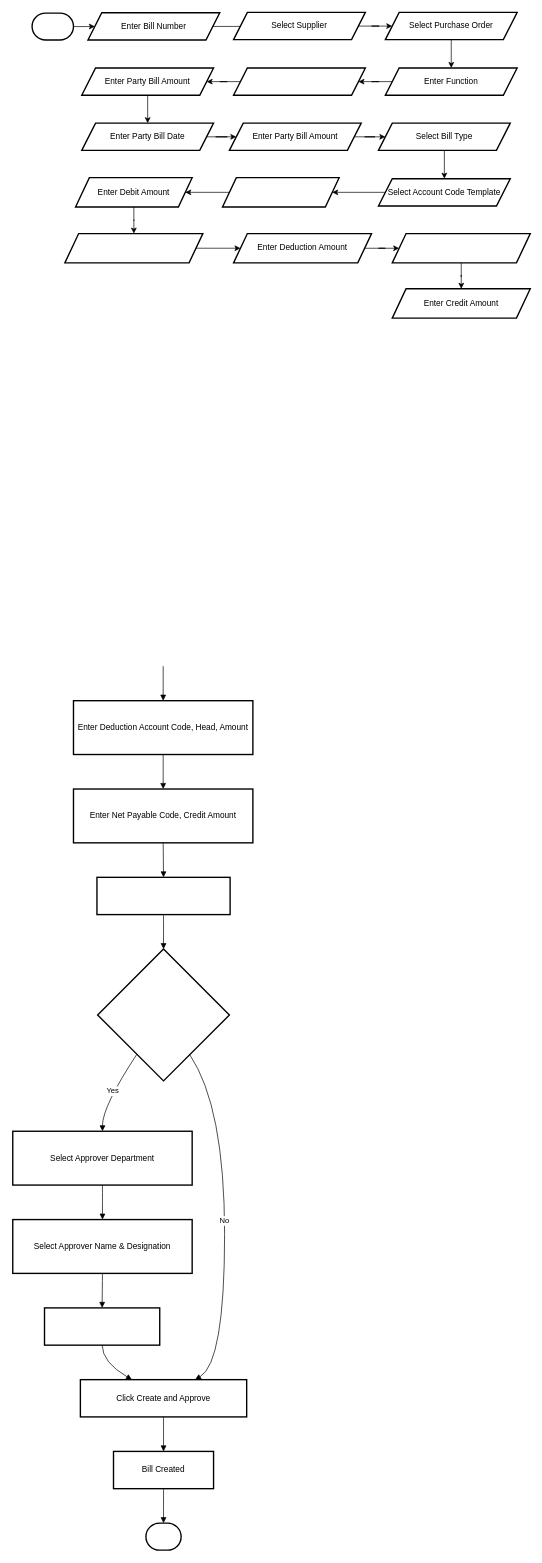
Image size: 542x1563. Some labels were removed from this diagram. The centre of each missing label's shape, as x and y in pixels:
Add Comments: the point at 101,1326
Approval Required?: the point at 163,1014
End: the point at 163,1536
Enter Debit Account Code: the point at 280,192
Enter Deduction Account Code: the point at 133,248
Enter Narration: the point at 299,81
Enter Net Payable Code: the point at 461,248
Start: the point at 52,26
Upload Documents: the point at 163,895
